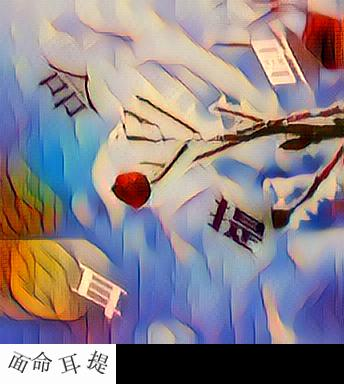character: (64, 257, 145, 327), (38, 61, 107, 128), (205, 191, 270, 258), (247, 30, 309, 95)
